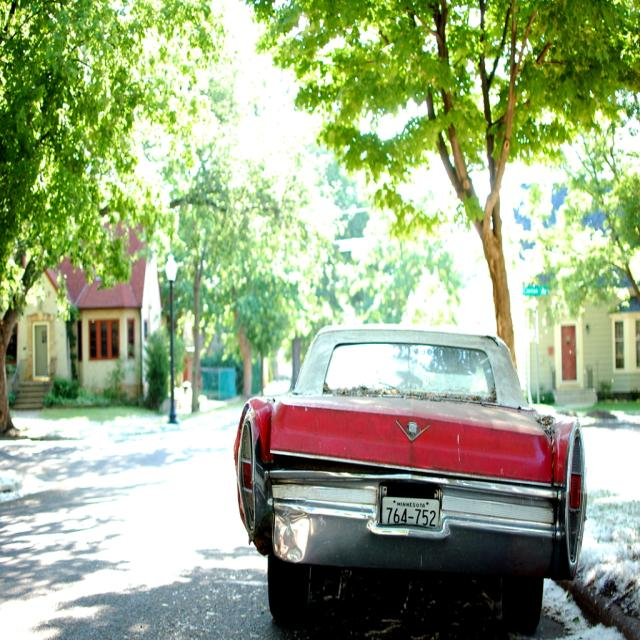car: (233, 322, 586, 634)
